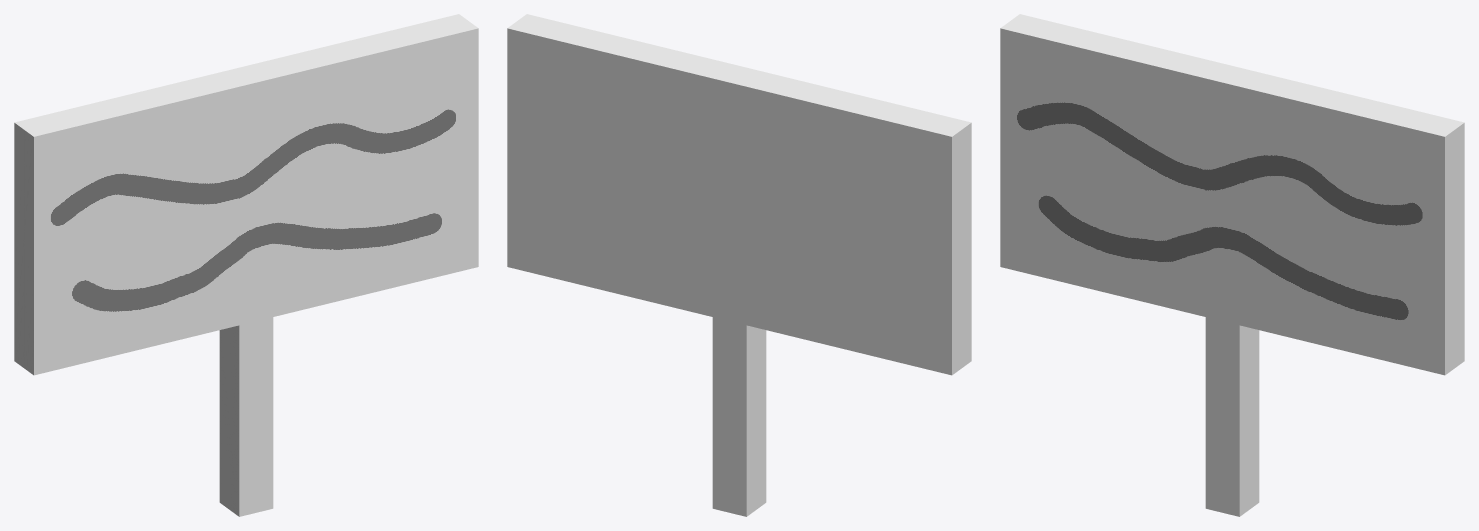
Rendered from Sign.fbx.
3 renders of one model, left to right at view 1: azimuth 30°, elevation 25°; view 2: azimuth 150°, elevation 25°; view 3: azimuth 330°, elevation 25°, orthographic.
Parts seen in each view (by area): view 1: Cube.002; view 2: Cube.002; view 3: Cube.002.
Part boxes in pixels (x1,y1,x2,y2): Cube.002: (14, 14, 478, 516); Cube.002: (507, 14, 971, 516); Cube.002: (1000, 14, 1464, 516).
Size of the model in its own units: 486 by 449 by 37.13.
